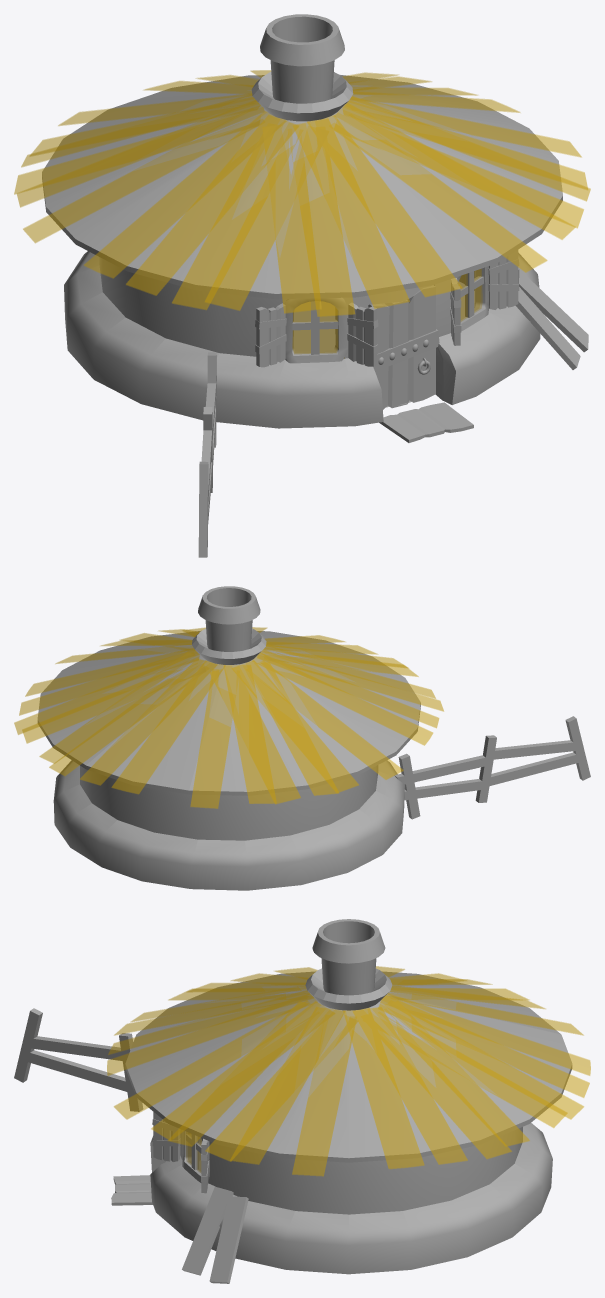
The model's file is Shaman Hut.fbx.
3 views of the same model, one above another, from view 1: azimuth 30°, elevation 25°; view 2: azimuth 150°, elevation 25°; view 3: azimuth 270°, elevation 25° (orthographic). The views are drawn at different scales.
Parts seen in each view (by area): view 1: Outside, Hay, Shudders, Door, Windows, Boards, Inside, Fence, Door_Mat, Window_Panes, Floor, Door_Bar; view 2: Outside, Hay, Fence, Inside; view 3: Outside, Hay, Fence, Boards, Inside, Shudders, Door_Mat, Windows.
Part boxes in pixels (box(x1,y1,x2,y2)): Outside: box(42, 27, 562, 428); Hay: box(14, 70, 590, 316); Shudders: box(255, 250, 519, 367); Door: box(368, 285, 435, 409); Windows: box(284, 266, 489, 363); Boards: box(515, 269, 588, 369); Inside: box(266, 14, 474, 404); Fence: box(198, 352, 216, 557); Door_Mat: box(379, 402, 473, 442); Window_Panes: box(292, 269, 482, 358); Floor: box(293, 281, 474, 407); Door_Bar: box(373, 329, 439, 371); Outside: box(37, 595, 420, 890); Hay: box(14, 627, 443, 808); Fence: box(394, 716, 590, 819); Inside: box(202, 586, 255, 608); Outside: box(125, 932, 572, 1274); Hay: box(107, 966, 590, 1176); Fence: box(14, 1008, 143, 1111); Boards: box(182, 1186, 248, 1283); Inside: box(150, 919, 379, 1172); Shudders: box(152, 1112, 208, 1193); Door_Mat: box(111, 1175, 152, 1205); Windows: box(182, 1130, 209, 1182).
Bounding box in the file's own units: 44.26 × 24.3 × 47.11.
